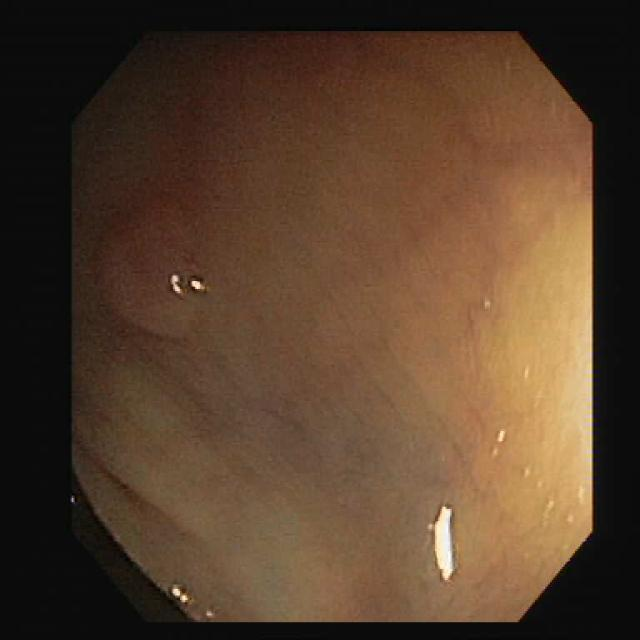tumor: (90, 198, 218, 353)
